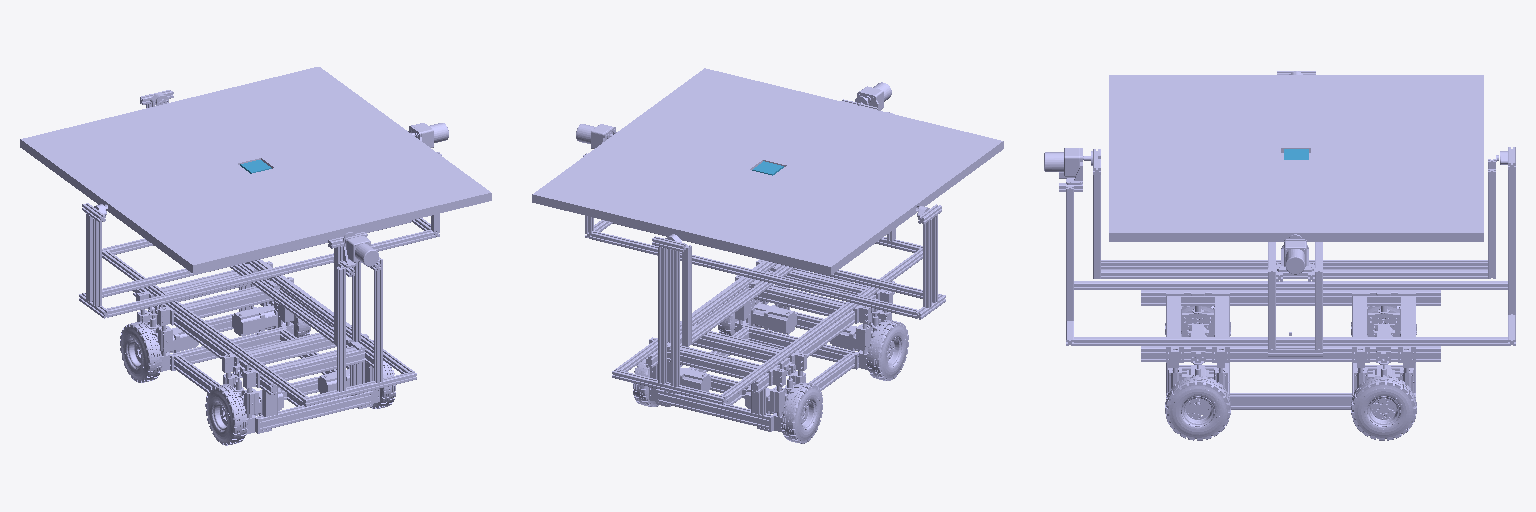
robot.urdf — Mobile_Leveling_Platform_V2:
<?xml version="1.0" encoding="utf-8"?>
<robot name="Mobile_Leveling_Platform_V2">


<!--link color-->
  <gazebo reference="beacon_link">
      <material>Gazebo/Green</material> 
  </gazebo>

  <gazebo reference="GPS_link">
      <material>Gazebo/Black</material> 
  </gazebo>


<!-- base_link mass :15.686-->

  <link
    name="base_link">
    <inertial>
      <origin
        xyz="0 0 0"
        rpy="0 0 0" />
      <mass
        value="15.686" />
      <inertia
        ixx="3.1779"
        ixy="0"
        ixz="0"
        iyy="3.6754"
        iyz="0"
        izz="4.4975" />
    </inertial>
    <visual>
      <origin
        xyz="0 1.5 0"
        rpy="0 0 0" />
      <geometry>
        <mesh
          filename="package://Mobile_Leveling_Platform_V2/meshes/base_link.STL" />
      </geometry>
      <material
        name="">
        <color
          rgba="0.82353 0.82353 1 1" />
      </material>
    </visual>
    <collision>
      <origin
        xyz="0 0 0"
        rpy="0 0 0" />
      <geometry>
	<box size="0.64 0.998 0.222"/>
      </geometry>
    </collision>
  </link>

  <joint
    name="imu_base_joint"
    type="fixed">
    <origin
      xyz="0 0 0.111"
      rpy="0 0 0" />
    <parent
      link="base_link" />
    <child
      link="imu_link_base" />
    <axis
      xyz="0 0 0" />
  </joint>

  <link name ="imu_link_base">
    <inertial>
      <origin
        xyz="0 0 0" 
        rpy="0 0 0" />
      <mass
        value="0.1" />
      <inertia
        ixx="0.000001667"
        ixy="0"
        ixz="0"
        iyy="0.000001667"
        iyz="0"
        izz="0.000001667" />
    </inertial>
    <visual>
      <origin
        xyz="0 0 0"
        rpy="0 0 0" />
      <geometry>
	<box size = "0.01 0.01 0.01"/>
      </geometry>
      <material
        name="">
        <color
          rgba="0.82353 0.82353 1 1" />
      </material>
    </visual>
    <collision>
      <origin
        xyz="0 0 0"
        rpy="0 0 0" />
      <geometry>
	<box size = "0.01 0.01 0.01"/>
      </geometry>
    </collision>
  </link>
  <link
    name="front_L_motor_rev_link">
    <inertial>
      <origin
        xyz="0 0 0"
        rpy="0 0 0" />
      <mass
        value="0.075717" />
      <inertia
        ixx="3.7606E-05"
        ixy="1.0136E-07"
        ixz="-5.7378E-07"
        iyy="3.7419E-05"
        iyz="-1.7765E-07"
        izz="3.9868E-05" />
    </inertial>
    <visual>
      <origin
        xyz="0 0 0"
        rpy="0 0 0" />
      <geometry>
        <mesh
          filename="package://Mobile_Leveling_Platform_V2/meshes/front_L_motor_rev_link.STL" />
      </geometry>
      <material
        name="">
        <color
          rgba="0.82353 0.82353 1 1" />
      </material>
    </visual>
    <collision>
      <origin
        xyz="0 0 0"
        rpy="0 0 0" />
      <geometry>
        <mesh
          filename="package://Mobile_Leveling_Platform_V2/meshes/front_L_motor_rev_link.STL" />
      </geometry>
    </collision>
  </link>
  <joint
    name="front_L_motor_rev_joint"
    type="continuous">
    <origin
      xyz="0.363 -0.3709 -0.041791"
      rpy="0 -1.5708 0" />
    <parent
      link="base_link" />
    <child
      link="front_L_motor_rev_link" />
    <axis
      xyz="0 0 -1" />
  </joint>
  <link
    name="front_L_tire_link">
    <inertial>
      <origin
        xyz="0 0 0"
        rpy="0 0 0" />
      <mass
        value="2.9551" />
      <inertia
        ixx="0.029016"
        ixy="0"
        ixz="0"
        iyy="0.015583"
        iyz="0"
        izz="0.015587" />
    </inertial>
    <visual>
      <origin
        xyz="0 0 0"
        rpy="0 0 0" />
      <geometry>
        <mesh
          filename="package://Mobile_Leveling_Platform_V2/meshes/front_L_tire_link.STL" />
      </geometry>
      <material
        name="">
        <color
          rgba="0.82353 0.82353 1 1" />
      </material>
    </visual>
    <collision>
      <origin
        xyz="0 0 0"
        rpy="0 0 0" />
      <geometry>
        <mesh
          filename="package://Mobile_Leveling_Platform_V2/meshes/front_L_tire_link.STL" />
      </geometry>
    </collision>
  </link>
  <joint
    name="front_L_tire_joint"
    type="fixed">
    <origin
      xyz="0 0 -0.011"
      rpy="0.13209 1.5708 0" />
    <parent
      link="front_L_motor_rev_link" />
    <child
      link="front_L_tire_link" />
    <axis
      xyz="0 0 0" />
  </joint>
  <link
    name="front_R_motor_link">
    <inertial>
      <origin
        xyz="0 0 0"
        rpy="0 0 0" />
      <mass
        value="0.075717" />
      <inertia
        ixx="3.7606E-05"
        ixy="1.0136E-07"
        ixz="-5.7378E-07"
        iyy="3.7419E-05"
        iyz="-1.7765E-07"
        izz="3.9868E-05" />
    </inertial>
    <visual>
      <origin
        xyz="0 0 0"
        rpy="0 0 0" />
      <geometry>
        <mesh
          filename="package://Mobile_Leveling_Platform_V2/meshes/front_R_motor_link.STL" />
      </geometry>
      <material
        name="">
        <color
          rgba="0.82353 0.82353 1 1" />
      </material>
    </visual>
    <collision>
      <origin
        xyz="0 0 0"
        rpy="0 0 0" />
      <geometry>
        <mesh
          filename="package://Mobile_Leveling_Platform_V2/meshes/front_R_motor_link.STL" />
      </geometry>
    </collision>
  </link>
  <joint
    name="front_R_motor_rev_joint"
    type="continuous">
    <origin
      xyz="-0.363 -0.3709 -0.041791"
      rpy="3.1416 -1.5708 0" />
    <parent
      link="base_link" />
    <child
      link="front_R_motor_link" />
    <axis
      xyz="0 0 1" />
  </joint>
  <link
    name="front_R_tire_link">
    <inertial>
      <origin
        xyz="0 0 0"
        rpy="0 0 0" />
      <mass
        value="2.9551" />
      <inertia
        ixx="0.029016"
        ixy="0"
        ixz="0"
        iyy="0.015583"
        iyz="0"
        izz="0.015587" />
    </inertial>
    <visual>
      <origin
        xyz="0 0 0"
        rpy="0 0 0" />
      <geometry>
        <mesh
          filename="package://Mobile_Leveling_Platform_V2/meshes/front_R_tire_link.STL" />
      </geometry>
      <material
        name="">
        <color
          rgba="0.82353 0.82353 1 1" />
      </material>
    </visual>
    <collision>
      <origin
        xyz="0 0 0"
        rpy="0 0 0" />
      <geometry>
        <mesh
          filename="package://Mobile_Leveling_Platform_V2/meshes/front_R_tire_link.STL" />
      </geometry>
    </collision>
  </link>
  <joint
    name="front_R_tire_joint"
    type="fixed">
    <origin
      xyz="0 0 -0.011"
      rpy="0.14726 1.5708 0" />
    <parent
      link="front_R_motor_link" />
    <child
      link="front_R_tire_link" />
    <axis
      xyz="0 0 0" />
  </joint>
  <link
    name="rear_L_motor_rev_link">
    <inertial>
      <origin
        xyz="0 0 0"
        rpy="0 0 0" />
      <mass
        value="0.075717" />
      <inertia
        ixx="3.7606E-05"
        ixy="1.0136E-07"
        ixz="-5.7378E-07"
        iyy="3.7419E-05"
        iyz="-1.7765E-07"
        izz="3.9868E-05" />
    </inertial>
    <visual>
      <origin
        xyz="0 0 0"
        rpy="0 0 0" />
      <geometry>
        <mesh
          filename="package://Mobile_Leveling_Platform_V2/meshes/rear_L_motor_rev_link.STL" />
      </geometry>
      <material
        name="">
        <color
          rgba="0.82353 0.82353 1 1" />
      </material>
    </visual>
    <collision>
      <origin
        xyz="0 0 0"
        rpy="0 0 0" />
      <geometry>
        <mesh
          filename="package://Mobile_Leveling_Platform_V2/meshes/rear_L_motor_rev_link.STL" />
      </geometry>
    </collision>
  </link>
  <joint
    name="rear_L_motor_rev_joint"
    type="continuous">
    <origin
      xyz="0.363 0.3731 -0.041791"
      rpy="0 -1.5708 0" />
    <parent
      link="base_link" />
    <child
      link="rear_L_motor_rev_link" />
    <axis
      xyz="0 0 -1" />
  </joint>
  <link
    name="rear_L_tire_link">
    <inertial>
      <origin
        xyz="0 0 0"
        rpy="0 0 0" />
      <mass
        value="2.9551" />
      <inertia
        ixx="0.029016"
        ixy="0"
        ixz="0"
        iyy="0.015583"
        iyz="0"
        izz="0.015587" />
    </inertial>
    <visual>
      <origin
        xyz="0 0 0"
        rpy="0 0 0" />
      <geometry>
        <mesh
          filename="package://Mobile_Leveling_Platform_V2/meshes/rear_L_tire_link.STL" />
      </geometry>
      <material
        name="">
        <color
          rgba="0.82353 0.82353 1 1" />
      </material>
    </visual>
    <collision>
      <origin
        xyz="0 0 0"
        rpy="0 0 0" />
      <geometry>
        <mesh
          filename="package://Mobile_Leveling_Platform_V2/meshes/rear_L_tire_link.STL" />
      </geometry>
    </collision>
  </link>
  <joint
    name="rear_L_tire_joint"
    type="fixed">
    <origin
      xyz="0 0 -0.011"
      rpy="0.13537 -1.5708 0" />
    <parent
      link="rear_L_motor_rev_link" />
    <child
      link="rear_L_tire_link" />
    <axis
      xyz="0 0 0" />
  </joint>
  <link
    name="rear_R_motor_rev_link">
    <inertial>
      <origin
        xyz="0 0 0"
        rpy="0 0 0" />
      <mass
        value="0.075717" />
      <inertia
        ixx="3.7606E-05"
        ixy="1.0136E-07"
        ixz="-5.7378E-07"
        iyy="3.7419E-05"
        iyz="-1.7765E-07"
        izz="3.9868E-05" />
    </inertial>
    <visual>
      <origin
        xyz="0 0 0"
        rpy="0 0 0" />
      <geometry>
        <mesh
          filename="package://Mobile_Leveling_Platform_V2/meshes/rear_R_motor_rev_link.STL" />
      </geometry>
      <material
        name="">
        <color
          rgba="0.82353 0.82353 1 1" />
      </material>
    </visual>
    <collision>
      <origin
        xyz="0 0 0"
        rpy="0 0 0" />
      <geometry>
        <mesh
          filename="package://Mobile_Leveling_Platform_V2/meshes/rear_R_motor_rev_link.STL" />
      </geometry>
    </collision>
  </link>
  <joint
    name="rear_R_motor_rev_joint"
    type="continuous">
    <origin
      xyz="-0.363 0.3731 -0.041791"
      rpy="3.1416 -1.5708 0" />
    <parent
      link="base_link" />
    <child
      link="rear_R_motor_rev_link" />
    <axis
      xyz="0 0 1" />
  </joint>
  <link
    name="rear_R_tire_link">
    <inertial>
      <origin
        xyz="0 0 0"
        rpy="0 0 0" />
      <mass
        value="2.9551" />
      <inertia
        ixx="0.029016"
        ixy="0"
        ixz="0"
        iyy="0.015583"
        iyz="0"
        izz="0.015587" />
    </inertial>
    <visual>
      <origin
        xyz="0 0 0"
        rpy="0 0 0" />
      <geometry>
        <mesh
          filename="package://Mobile_Leveling_Platform_V2/meshes/rear_R_tire_link.STL" />
      </geometry>
      <material
        name="">
        <color
          rgba="0.82353 0.82353 1 1" />
      </material>
    </visual>
    <collision>
      <origin
        xyz="0 0 0"
        rpy="0 0 0" />
      <geometry>
        <mesh
          filename="package://Mobile_Leveling_Platform_V2/meshes/rear_R_tire_link.STL" />
      </geometry>
    </collision>
  </link>
  <joint
    name="rear_R_tire_joint"
    type="fixed">
    <origin
      xyz="0 0 -0.011"
      rpy="0.1395 1.5708 0" />
    <parent
      link="rear_R_motor_rev_link" />
    <child
      link="rear_R_tire_link" />
    <axis
      xyz="0 0 0" />
  </joint>-->
  <link
    name="mating_link">
    <inertial>
      <origin
        xyz="0.28001 -0.915 -0.041642"
        rpy="0 0 0" />
      <mass
        value="15" /> <!--mating_link_ mass:14.754-->
      <inertia
        ixx="4.107625"
        ixy="0"
        ixz="0"
        iyy="0.5245"
        iyz="0"
        izz="4.607125" />
    </inertial>
    <visual>
      <origin
        xyz="0 0 0" 
        rpy="0 0 0" />
      <geometry>
        <mesh
          filename="package://Mobile_Leveling_Platform_V2/meshes/mating_link.STL" />
      </geometry>
      <material
        name="">
        <color
          rgba="0.82353 0.82353 1 1" />
      </material>
    </visual>
    <collision>
      <origin
        xyz="0.28001 -0.915 -0.041642" 
        rpy="0 0 0" />
      <geometry>
	<box size="0.64 1.810 0.1"/>
      </geometry>
    </collision>
  </link>
  <joint
    name="mating_joint"
    type="fixed">
    <origin
      xyz="-0.28 0.88511 0.20249"
      rpy="0 0 0" />
    <parent
      link="base_link" />
    <child
      link="mating_link" />
    <axis
      xyz="0 0 0" />
  </joint>
  <link
    name="front_leveling_link">
    <inertial>
      <origin
        xyz="-0.094 -0.0078388 0.49881"
        rpy="0 0 0" />
      <mass
        value="1.9876" />
      <inertia
        ixx="0.025468"
        ixy="0"
        ixz="0"
        iyy="0.024479"
        iyz="0"
        izz="0.0026287" />
    </inertial>
    <visual>
      <origin
        xyz="0 0 0"
        rpy="0 0 0" />
      <geometry>
        <mesh
          filename="package://Mobile_Leveling_Platform_V2/meshes/front_leveling_link.STL" />
      </geometry>
      <material
        name="">
        <color
          rgba="0.82353 0.82353 1 1" />
      </material>
    </visual>
    <collision>
      <origin
        xyz="-0.1 -0.03 0.355"
        rpy="0 0 0" />
      <geometry>
	<box size = "0.218 0.153 0.697"/>
      </geometry>
    </collision>
  </link>
  <joint
    name="front_leveling_joint"
    type="fixed">
    <origin
      xyz="0.374 -1.768 0.015"
      rpy="0 0 0" />
    <parent
      link="mating_link" />
    <child
      link="front_leveling_link" />
    <axis
      xyz="0 0 0" />
  </joint>
  <link
    name="front_motor_rev_link">
    <inertial>
      <origin
        xyz="9.7145E-16 0.030907 2.2204E-16"
        rpy="0 0 0" />
      <mass
        value="0.025329" /> 
      <inertia
        ixx="6.8991E-06"
        ixy="-2.7437E-22"
        ixz="3.1069E-40"
        iyy="1.0461E-05"
        iyz="1.7456E-23"
        izz="6.8991E-06" />
    </inertial>
    <visual>
      <origin
        xyz="0 0 0"
        rpy="0 0 0" />
      <geometry>
        <mesh
          filename="package://Mobile_Leveling_Platform_V2/meshes/front_motor_rev_link.STL" />
      </geometry>
      <material
        name="">
        <color
          rgba="0.82353 0.82353 1 1" />
      </material>
    </visual>
    <collision>
      <origin
        xyz="0 0 0"
        rpy="0 0 0" />
      <geometry>
        <mesh
          filename="package://Mobile_Leveling_Platform_V2/meshes/front_motor_rev_link.STL" />
      </geometry>
    </collision>
  </link>
  <joint
    name="GPS_joint"
    type="fixed">
    <origin
      xyz="9.7145E-16 0.030907 0.0095"
      rpy="0 3.141592 0" />
    <parent
      link="front_motor_rev_link" />
    <child
      link="GPS_link" />
    <axis
      xyz="0 0 0" />
  </joint>
  <link 
    name="GPS_link">
    <inertial>
      <origin
        xyz="9.7145E-16 0.030907 0.015" 
        rpy="0 3.141592 0" />
      <mass
        value="0.1" />
      <inertia
        ixx="0.000001667"
        ixy="0"
        ixz="0"
        iyy="0.000001667"
        iyz="0"
        izz="0.000001667" />
    </inertial>
    <visual>
      <origin
        xyz="9.7145E-16 0.030907 0.015"
        rpy="0 3.141592 0" />
      <geometry>
	<box size = "0.01 0.01 0.01"/>
      </geometry>
      <material
        name="">
        <color
          rgba="0.82353 0.82353 1 1" />
      </material>
    </visual>
    <collision>
      <origin
        xyz="9.7145E-16 0.030907 0.015"
        rpy="0 3.141592 0" />
      <geometry>
	<box size = "0.01 0.01 0.01"/>
      </geometry>
    </collision>
  </link>
  <joint
    name="front_motor_rev_joint"
    type="revolute">

    <origin
      xyz="-0.094 0.055 0.67"
      rpy="3.1416 0 -3.1416" />
    <parent
      link="front_leveling_link" />
    <child
      link="front_motor_rev_link" />
    <axis
      xyz="0 1 0" />
    <limit
      lower="-0.5236"
      upper="0.5236"
      effort="1"
      velocity="1" />
  </joint>

  <link
    name="under_upper_link">
    <inertial>
      <origin
        xyz="0.0862 0.80081 -0.32342"
        rpy="0.017453289 0 0" />
      <mass
        value="8.5158" />
      <inertia
        ixx="1.146358675"
        ixy="0"
        ixz="0"
        iyy="1.146358675"
        iyz="0"
        izz="1.930760367" />
    </inertial>
    <visual>
      <origin
        xyz="0 0 0"
        rpy="0 0 0" />
      <geometry>
        <mesh
          filename="package://Mobile_Leveling_Platform_V2/meshes/under_upper_link.STL" />
      </geometry>
      <material
        name="">
        <color
          rgba="0.82353 0.82353 1 1" />
      </material>
    </visual>
    <collision>
      <origin
        xyz="0.0862 0.80081 -0.32342"
        rpy="0 0 0" />
      <geometry>
        <box size="1.166345146172 1.166345146172 0.505" />
      </geometry>
    </collision>
  </link>



  <joint
    name="under_upper_joint"
    type="fixed">
    <origin
      xyz="0.087597 0.053 0.015743"
      rpy="-3.1416 0 -3.1416" />
    <parent
      link="front_motor_rev_link" />
    <child
      link="under_upper_link" />
    <axis
      xyz="0 0 0" />
  </joint>
  <link
    name="upper_motor_rev_link">
    <inertial>
      <origin
        xyz="-2.2204E-16 0.030907 1.1102E-16"
        rpy="0 0 0" />
      <mass
        value="0.025329" />
      <inertia
        ixx="6.8991E-06"
        ixy="5.9833E-22"
        ixz="-5.5917E-22"
        iyy="1.0461E-05"
        iyz="1.757E-23"
        izz="6.8991E-06" />
    </inertial>
    <visual>
      <origin
        xyz="0 0 0"
        rpy="0 0 0" />
      <geometry>
        <mesh
          filename="package://Mobile_Leveling_Platform_V2/meshes/upper_motor_rev_link.STL" />
      </geometry>
      <material
        name="">
        <color
          rgba="0.82353 0.82353 1 1" />
      </material>
    </visual>
    <collision>
      <origin
        xyz="0 0 0"
        rpy="0 0 0" />
      <geometry>
        <mesh
          filename="package://Mobile_Leveling_Platform_V2/meshes/upper_motor_rev_link.STL" />
      </geometry>
    </collision>
  </link>
  <joint
    name="upper_motor_rev_joint"
    type="revolute">
    <origin
      xyz="0.877 0.79375 0"
      rpy="0 -0.0058456 1.5708" />
    <parent
      link="under_upper_link" />
    <child
      link="upper_motor_rev_link" />
    <axis
      xyz="0 -1 0" />
    <limit
      lower="-0.5236"
      upper="0.5236"
      effort="1"
      velocity="1" />
  </joint>
  <link
    name="upper_link">
    <inertial>
      <origin
        xyz="-0.00040832 -0.00031982 -0.0067744"
        rpy="0 0 0" />
      <mass
        value="12.075" />
      <inertia
        ixx="2.264968125"
        ixy="0"
        ixz="0"
        iyy="2.264968125"
        iyz="0"
        izz="4.528125" />
    </inertial>
    <visual>
      <origin
        xyz="0 0 0"
        rpy="0 0 0" />
      <geometry>
        <mesh
          filename="package://Mobile_Leveling_Platform_V2/meshes/upper.STL" />
      </geometry>
      <material
        name="">
        <color
          rgba="0.82353 0.82353 1 1" />
      </material>
    </visual>
    <collision>
      <origin
        xyz="-0.00040832 -0.00031982 -0.0067744"
        rpy="0 0 0" />
      <geometry>
        <box size="1.5 1.5 0.03" />
      </geometry>
    </collision>
  </link>

  <joint
    name="beacon_joint"
    type="fixed">
    <origin
      xyz="-0.00040832 -0.00031982 0.004"

      rpy="0 0 0" />
    <parent
      link="upper_link" />
    <child
      link="beacon_link" />
    <axis
      xyz="0 0 0" />
  </joint>
  <link name="beacon_link">
    <inertial>
      <mass value="10.0"/>
      <origin rpy="0  0  0" xyz="0 0 0"/>
      <inertia ixx="0.01" ixy="0" ixz="0" iyy="0.01" iyz="0" izz="0.01"/>
    </inertial>
    <collision name="beacon_collision">
      <origin rpy="0  0  0" xyz="0.00040832 -0.00031982 0.005"/>
      <geometry>
        <box size="0.1 0.1 0.01"/>
      </geometry>
    </collision>
    <visual name="beacon_visual">
      <origin rpy="0  0  0" xyz="0.00040832 -0.00031982 0.005"/>
      <geometry>
        <box size="0.1 0.1 0.02"/>
      </geometry>
    </visual>
  </link>

  <joint
    name="upper_joint"
    type="fixed">
    <origin
      xyz="0.0038376 0.788 0.014978"
      rpy="-0.0058456 0 -1.5708" />
    <parent
      link="upper_motor_rev_link" />
    <child
      link="upper_link" />
    <axis
      xyz="0 0 0" />
  </joint>

  <link name ="imu_link_upper">
    <inertial>
      <origin
        xyz="-0.00040832 -0.00031982 -0.02"
        rpy="0 0 0" />
      <mass
        value="0.1" />
      <inertia
        ixx="0.000001667"
        ixy="0"
        ixz="0"
        iyy="0.000001667"
        iyz="0"
        izz="0.000001667" />
    </inertial>
    <visual>
      <origin
        xyz="-0.00040832 -0.00031982 -0.02"
        rpy="0 0 0" />
      <geometry>
	<box size = "0.01 0.01 0.01"/>
      </geometry>
      <material
        name="">
        <color
          rgba="255 255 255" />
      </material>
    </visual>
    <collision>
      <origin
        xyz="-0.00040832 -0.00031982 -0.02"
        rpy="0 0 0" />
      <geometry>
	<box size = "0.01 0.01 0.01"/>  
      </geometry>
    </collision>
  </link>

  <joint
    name="imu_joint"
    type="fixed">
    <origin
      xyz="-0.00040832 -0.00031982 -0.015"
      rpy="0 0 0" />
    <parent
      link="upper_link" />
    <child
      link="imu_link_upper" />
    <axis
      xyz="0 0 0" />
  </joint>
  <link
    name="rear_Leveling_link">
    <inertial>
      <origin
        xyz="0.03175 -0.0029488 0.36"
        rpy="0 0 0" />
      <mass
        value="2.75" />
      <inertia
        ixx="0.025468"
        ixy="0"
        ixz="0"
        iyy="0.024479"
        iyz="0"
        izz="0.0026287" />
    </inertial>
    <visual>
      <origin
        xyz="0 0 0"
        rpy="0 0 0" />
      <geometry>
        <mesh
          filename="package://Mobile_Leveling_Platform_V2/meshes/rear_Leveling_link.STL" />
      </geometry>
      <material
        name="">
        <color
          rgba="0.82353 0.82353 1 1" />
      </material>
    </visual>
    <collision>
      <origin
        xyz="0.03175 -0.0029488 0.36"
        rpy="0 0 0" />
      <geometry>
	<box size="0.1535 0.080 0.697"/>
      </geometry>
    </collision>
  </link>
  <joint
    name="rear_Leveling_joint"
    type="fixed">
    <origin
      xyz="0.24825 0 0.015"
      rpy="0 0 0" />
    <parent
      link="mating_link" />
    <child
      link="rear_Leveling_link" />
    <axis
      xyz="0 0 0" />
  </joint>



</robot>

--- Facts derived from the render (not from the file) ---
3 views of the same robot in one strip: view 1: azimuth 30°, elevation 25°; view 2: azimuth 150°, elevation 25°; view 3: azimuth 270°, elevation 25° (orthographic).
Model Mobile_Leveling_Platform_V2 with 20 links and 19 joints (2 revolute, 4 continuous, 13 fixed), rooted at base_link, posed every joint at zero.
Visible links, largest first — view 1: upper_link, mating_link, under_upper_link, base_link, front_leveling_link, rear_R_tire_link, front_R_tire_link; view 2: upper_link, mating_link, under_upper_link, base_link, rear_Leveling_link, rear_R_tire_link, front_R_tire_link, front_leveling_link, rear_L_tire_link; view 3: upper_link, mating_link, under_upper_link, base_link, rear_L_tire_link, front_L_tire_link, front_leveling_link, rear_Leveling_link.
Boxes of the visible links, x1=… form: upper_link: x1=20, y1=67, x2=491, y2=273; mating_link: x1=102, y1=238, x2=416, y2=406; under_upper_link: x1=79, y1=123, x2=448, y2=345; base_link: x1=137, y1=263, x2=379, y2=434; front_leveling_link: x1=337, y1=234, x2=382, y2=391; rear_R_tire_link: x1=120, y1=321, x2=161, y2=382; front_R_tire_link: x1=205, y1=384, x2=247, y2=445; upper_link: x1=532, y1=68, x2=1003, y2=274; mating_link: x1=612, y1=237, x2=922, y2=404; under_upper_link: x1=576, y1=99, x2=945, y2=346; base_link: x1=649, y1=261, x2=891, y2=432; rear_Leveling_link: x1=652, y1=234, x2=685, y2=386; rear_R_tire_link: x1=781, y1=382, x2=822, y2=443; front_R_tire_link: x1=867, y1=320, x2=908, y2=380; front_leveling_link: x1=855, y1=82, x2=895, y2=241; rear_L_tire_link: x1=633, y1=359, x2=658, y2=406; upper_link: x1=1109, y1=75, x2=1483, y2=241; mating_link: x1=1066, y1=281, x2=1515, y2=367; under_upper_link: x1=1093, y1=71, x2=1495, y2=356; base_link: x1=1166, y1=306, x2=1415, y2=414; rear_L_tire_link: x1=1351, y1=375, x2=1416, y2=440; front_L_tire_link: x1=1165, y1=375, x2=1230, y2=440; front_leveling_link: x1=1044, y1=148, x2=1083, y2=320; rear_Leveling_link: x1=1496, y1=147, x2=1515, y2=314.
Bounding box of the posed robot: 1.78 × 1.89 × 1.09 m (x, y, z).
15 mesh visuals loaded from 16 distinct referenced files (15 binary STL); not drawn: 1 (reference not matched to a file when rendering).